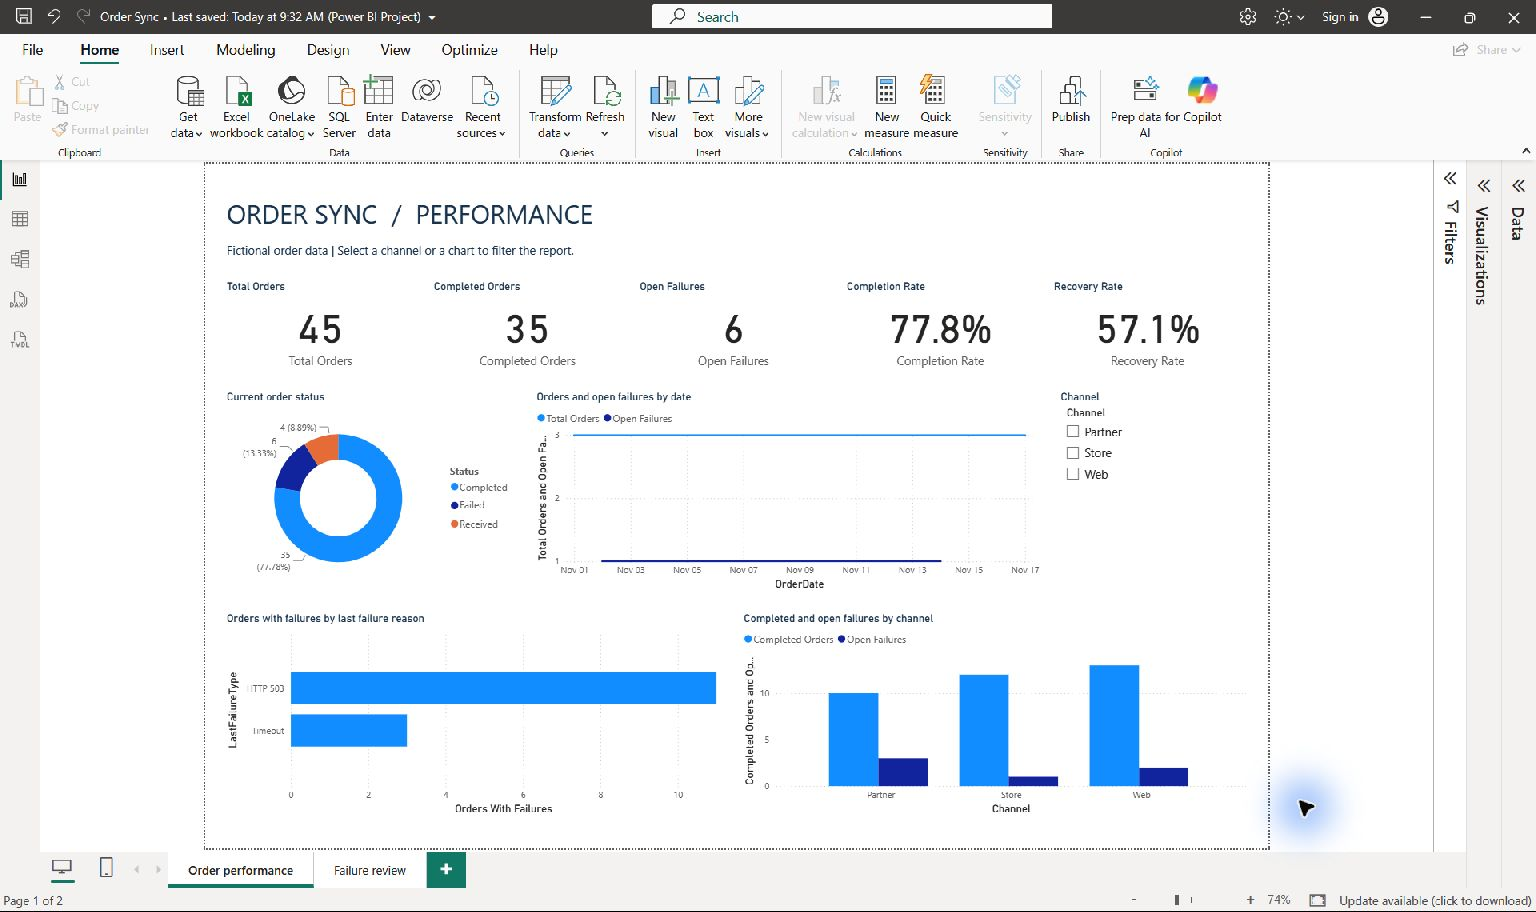

Layout of this report page (visuals, bound fields, positions):
{"tool":"powerbi","page":{"name":"Order performance","canvas":[1440,900],"ordinal":0},"visuals":[{"type":"textbox","box":[24,12,1380,62],"z":0},{"type":"textbox","box":[24,74,1380,45],"z":0},{"type":"card","title":"Total Orders","fields":{"Values":["Orders.Total Orders"]},"box":[24,130,264,125],"z":0},{"type":"card","title":"Completed Orders","fields":{"Values":["Orders.Completed Orders"]},"box":[304,130,264,125],"z":0},{"type":"card","title":"Open Failures","fields":{"Values":["Orders.Open Failures"]},"box":[584,130,264,125],"z":0},{"type":"card","title":"Completion Rate","fields":{"Values":["Orders.Completion Rate"]},"box":[864,130,264,125],"z":0},{"type":"card","title":"Recovery Rate","fields":{"Values":["Orders.Recovery Rate"]},"box":[1144,130,264,125],"z":0},{"type":"donutChart","title":"Current order status","fields":{"Category":["Orders.Status"],"Y":["Orders.Total Orders"]},"box":[24,280,400,275],"z":0},{"type":"lineChart","title":"Orders and open failures by date","fields":{"Category":["Orders.OrderDate"],"Y":["Orders.Total Orders","Orders.Open Failures"]},"box":[444,280,690,275],"z":0},{"type":"slicer","title":"Channel","fields":{"Values":["Orders.Channel"]},"box":[1154,280,260,275],"z":0},{"type":"clusteredBarChart","title":"Orders with failures by last failure reason","fields":{"Category":["Orders.LastFailureType"],"Y":["Orders.Orders With Failures"]},"box":[24,580,680,280],"z":0},{"type":"clusteredColumnChart","title":"Completed and open failures by channel","fields":{"Category":["Orders.Channel"],"Y":["Orders.Completed Orders","Orders.Open Failures"]},"box":[724,580,690,280],"z":0}]}

Visuals, with their boxes on the page's 1440x900 design canvas (x1, y1, x2, y2). These are canvas units, not pixel positions in the 1536x912 screenshot, which may show the page scaled, cropped or inside an application window:
textbox: <region>24, 12, 1404, 74</region>
textbox: <region>24, 74, 1404, 119</region>
"Total Orders" card: <region>24, 130, 288, 255</region>
"Completed Orders" card: <region>304, 130, 568, 255</region>
"Open Failures" card: <region>584, 130, 848, 255</region>
"Completion Rate" card: <region>864, 130, 1128, 255</region>
"Recovery Rate" card: <region>1144, 130, 1408, 255</region>
"Current order status" donutChart: <region>24, 280, 424, 555</region>
"Orders and open failures by date" lineChart: <region>444, 280, 1134, 555</region>
"Channel" slicer: <region>1154, 280, 1414, 555</region>
"Orders with failures by last failure reason" clusteredBarChart: <region>24, 580, 704, 860</region>
"Completed and open failures by channel" clusteredColumnChart: <region>724, 580, 1414, 860</region>
